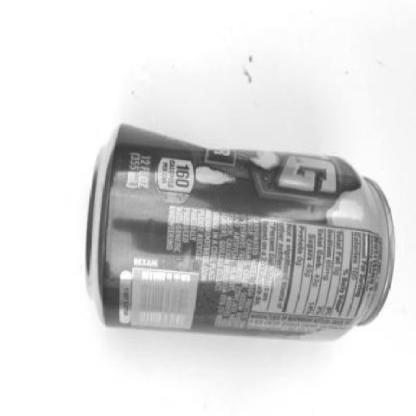alumunium_can: (83, 124, 394, 346)
